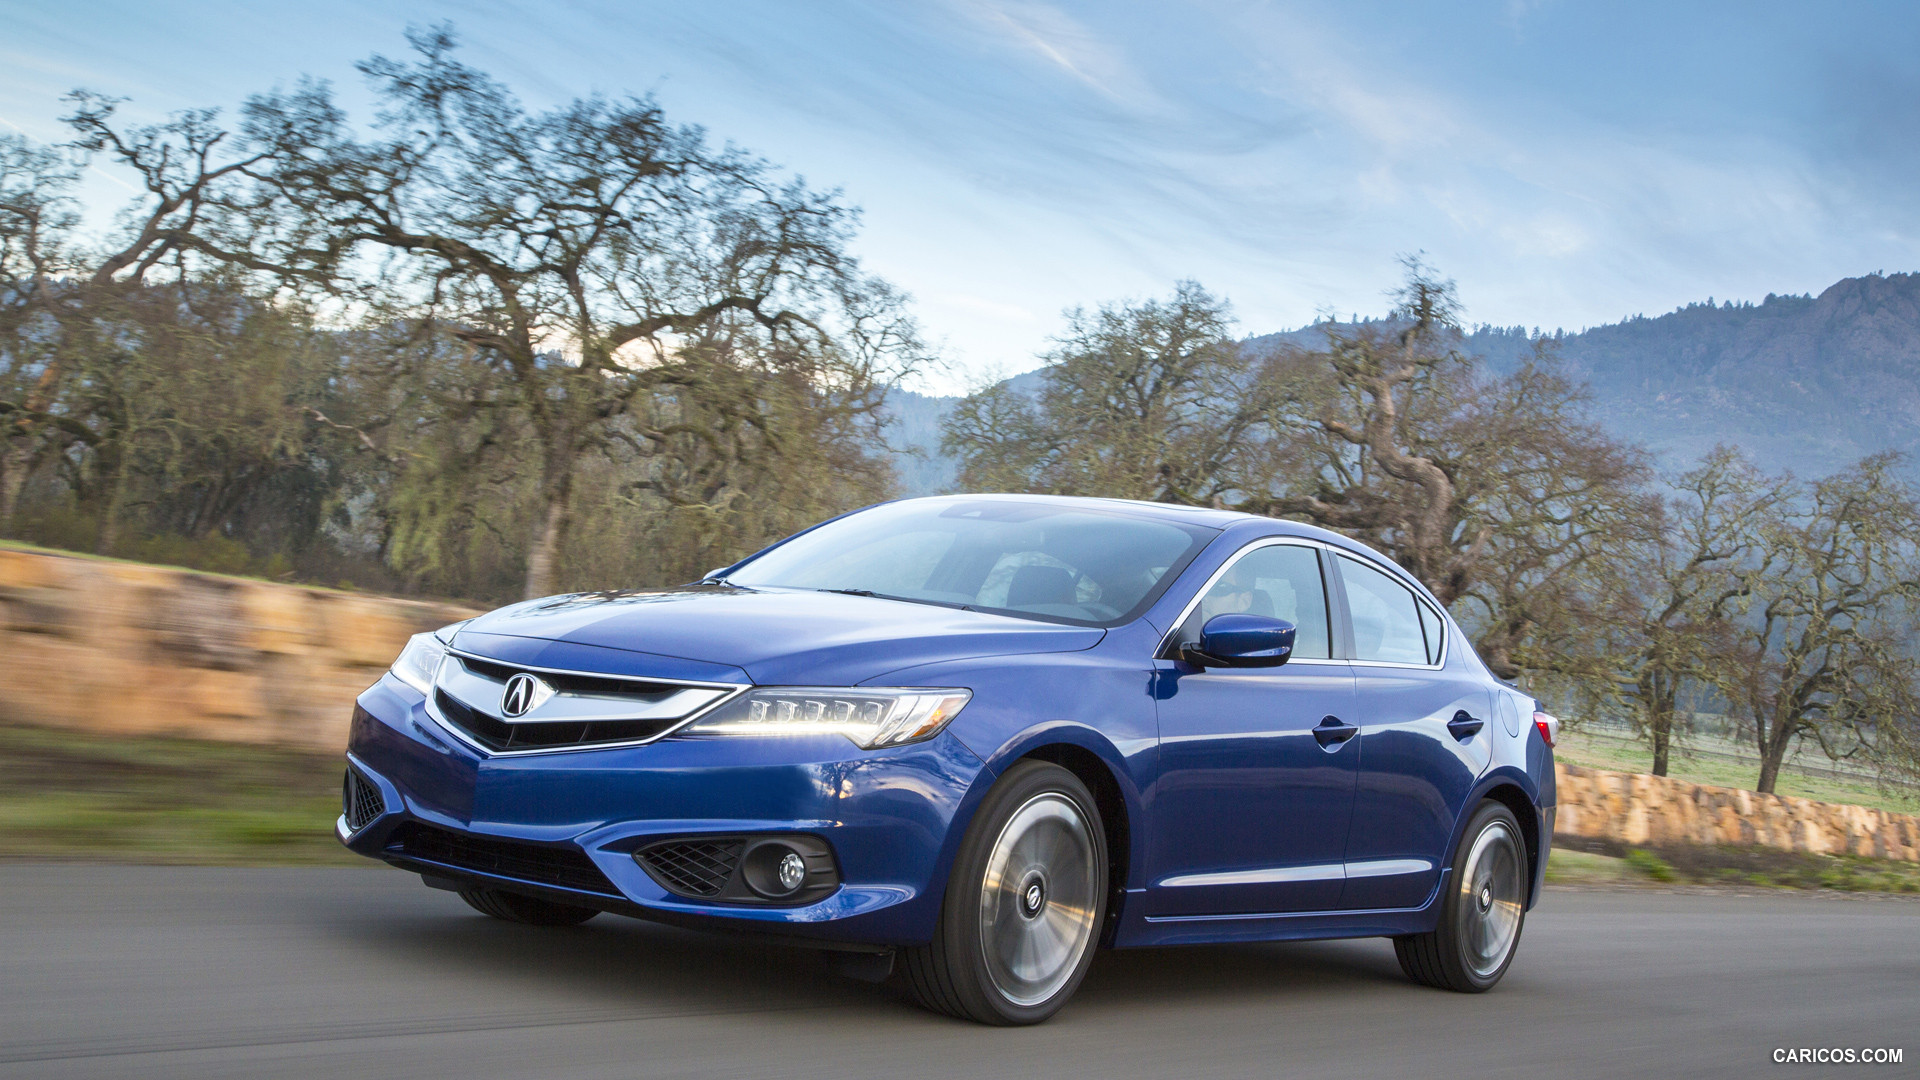Fog Lamp & Scope: (630, 829, 847, 909)
Front: (340, 620, 1064, 928)
Front Bumper: (316, 729, 959, 923)
Grill: (419, 633, 680, 756)
Headlight: (659, 683, 975, 750)
